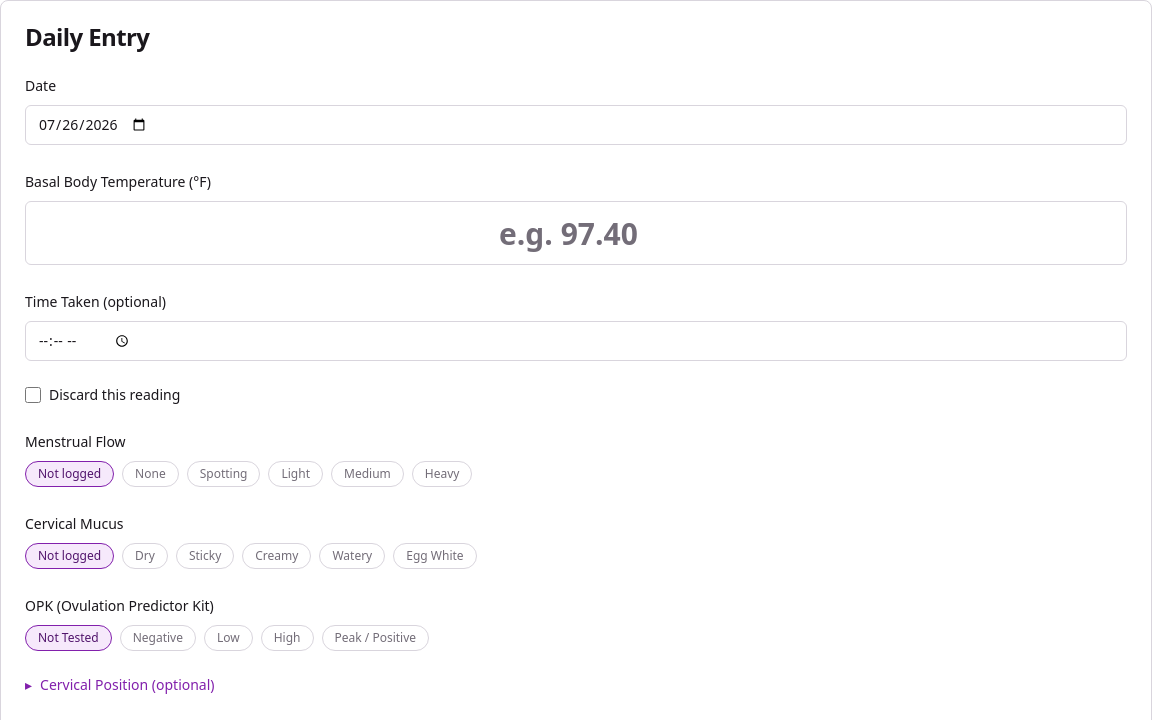
Test case: EntryForm › validates temperature input
In the number field labelled "Basal Body Temperature (°F)": (576, 233) [25,201,1127,265], type "97.40"
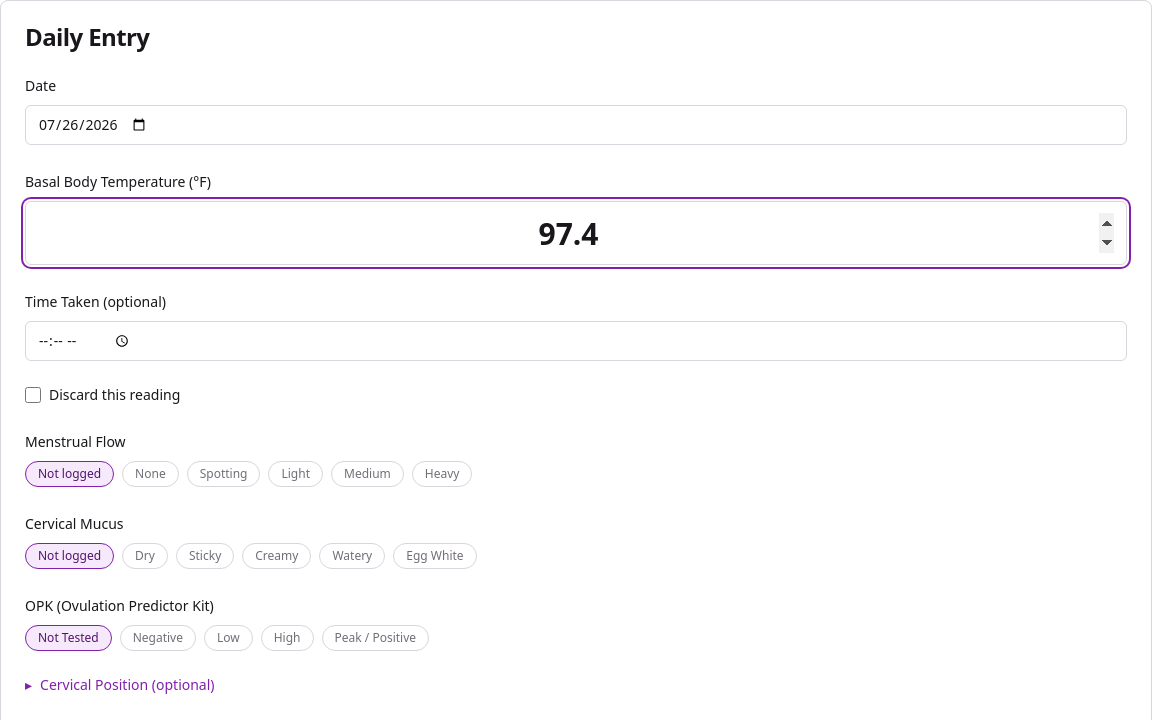
Expected: the number field labelled "Basal Body Temperature (°F)" holds "97.4", [25,201,1127,265]
